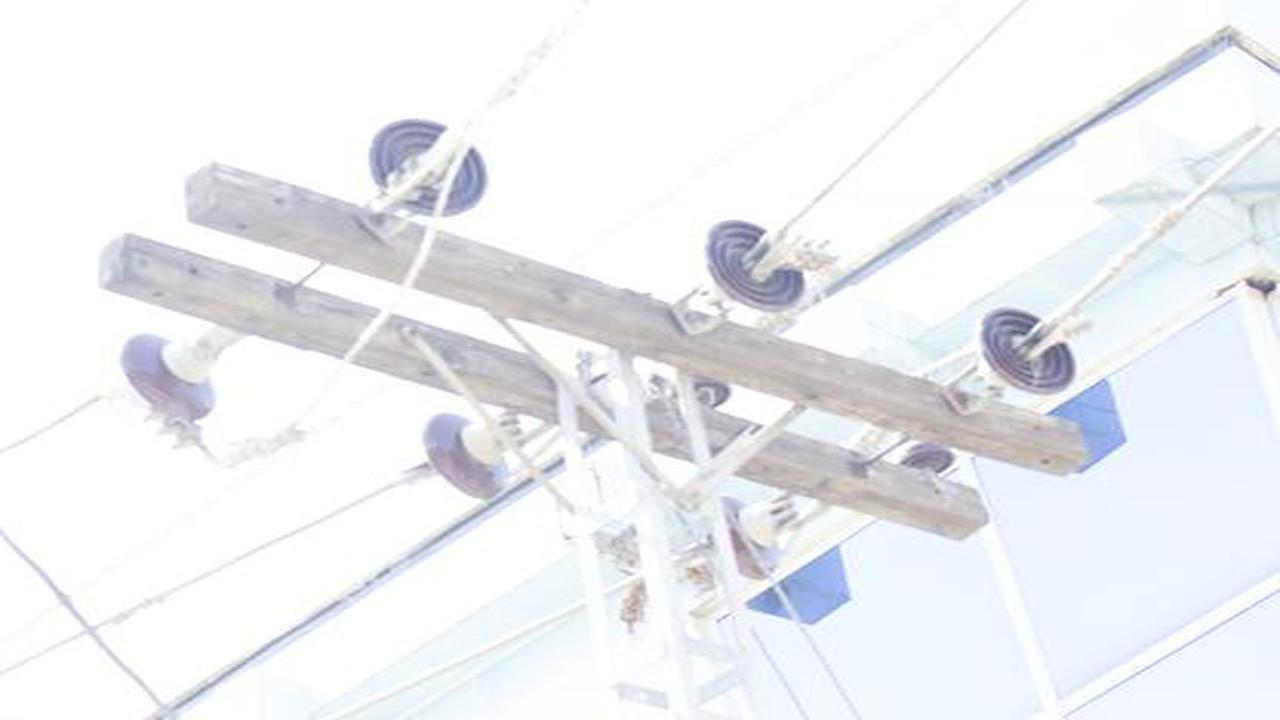insulator_disc: (366, 118, 491, 217), (701, 216, 813, 317), (118, 326, 228, 427), (420, 405, 525, 503), (975, 306, 1087, 396), (720, 486, 799, 583)
